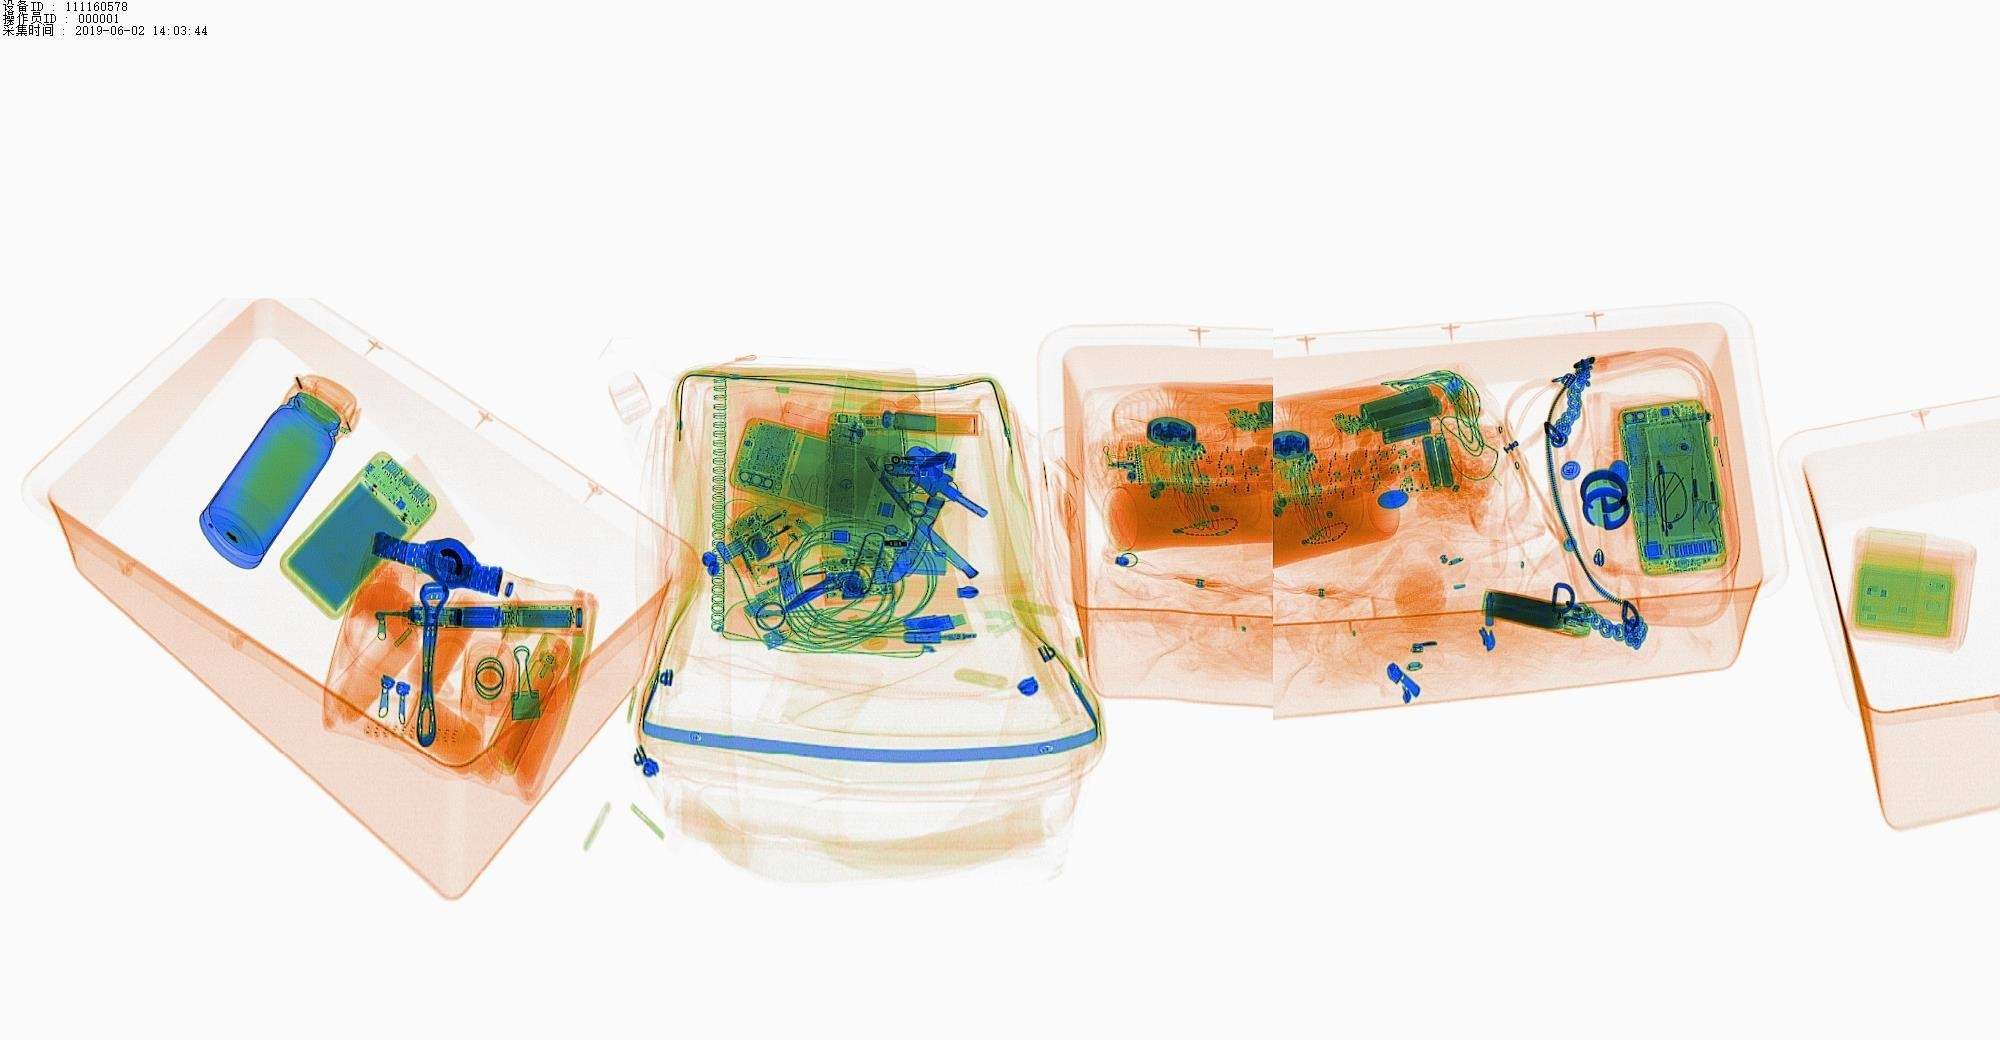NonmetallicFire: (767, 382, 884, 453)
